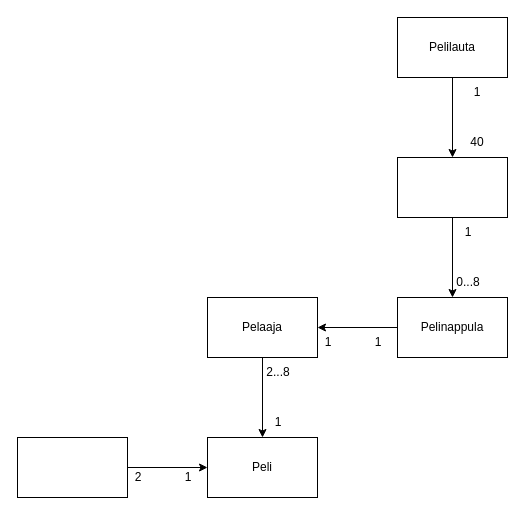
Image size: 525x515. Some labels were removed from this diagram. The centre of each missing label's shape, as x and y in pixels:
Noppa: [72,467]
Ruutu: [452,187]
